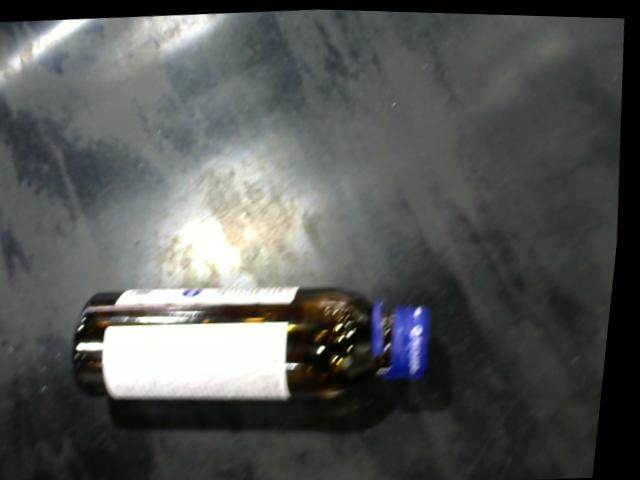glass: (77, 284, 442, 401)
